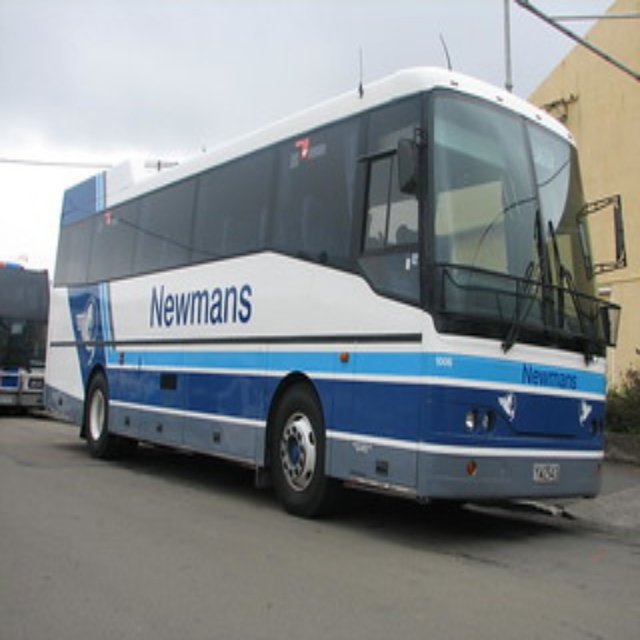Bus: (42, 61, 610, 517), (2, 259, 50, 416)
